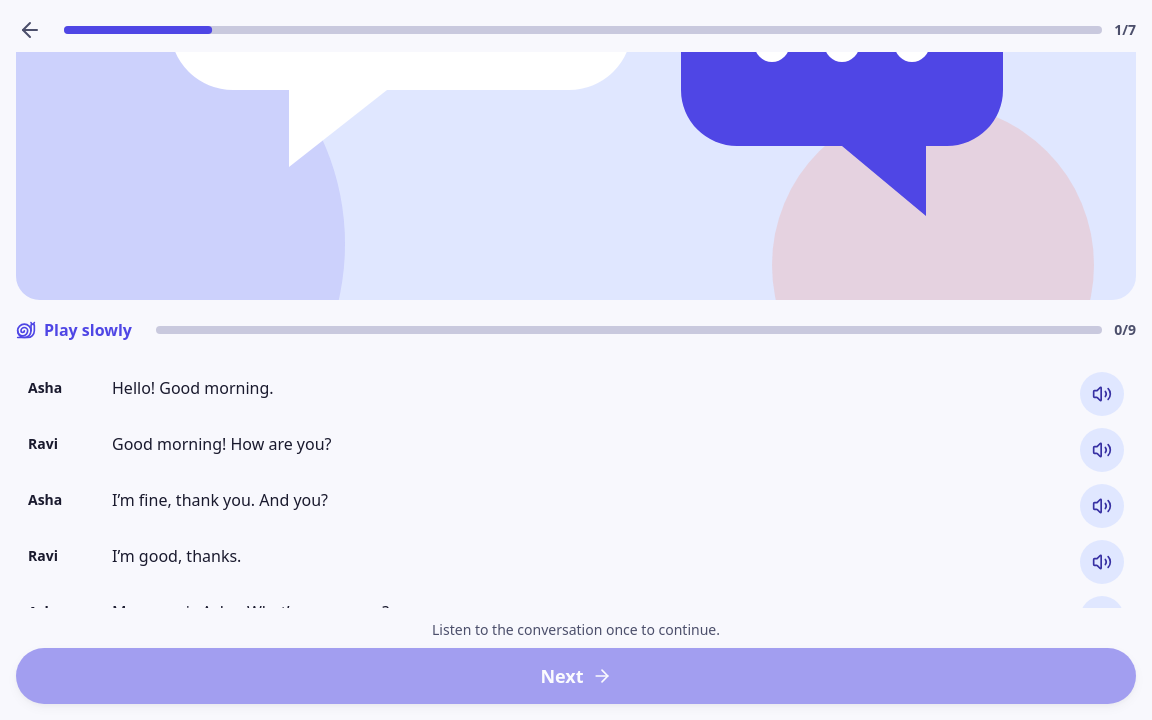
Scenario: Day 1: Watch and listen › plays slowly on request, and that counts as heard too
(page scrolled)
What coordinates should you click on to do the following:
click the button "Play slowly"
I would click on:
 (74, 330)
Its box is 4,308 -> 144,352.
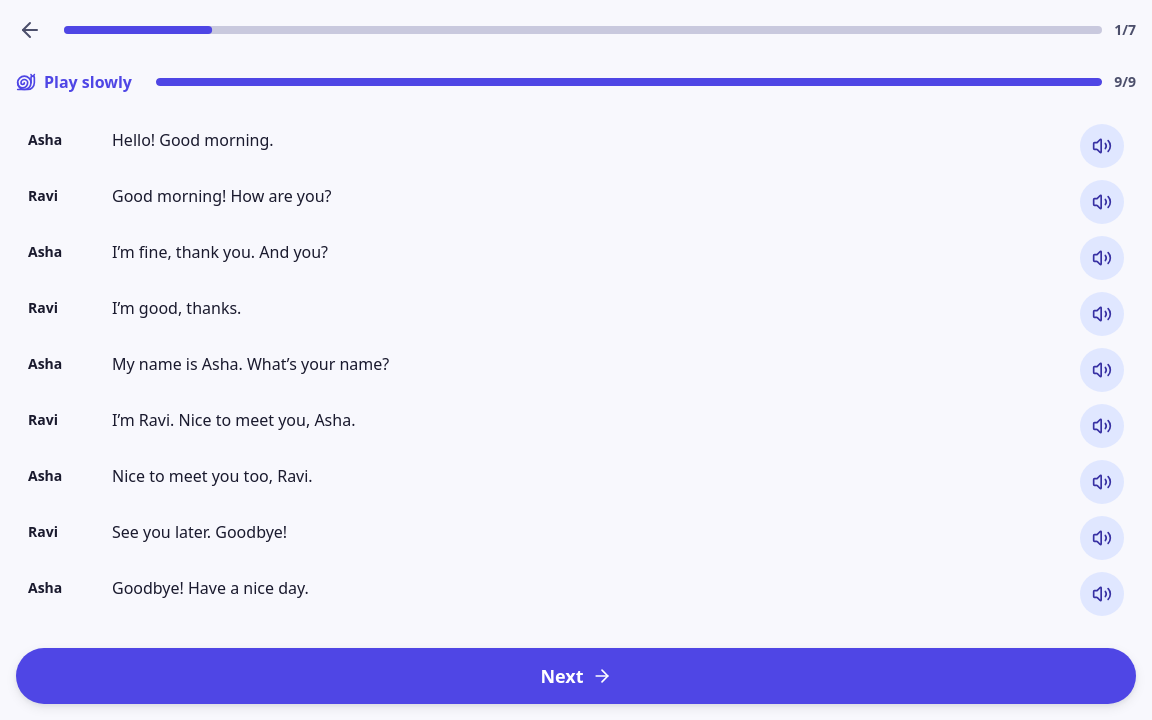
Check: the button "Next" is enabled, box 16,648 -> 1136,704
